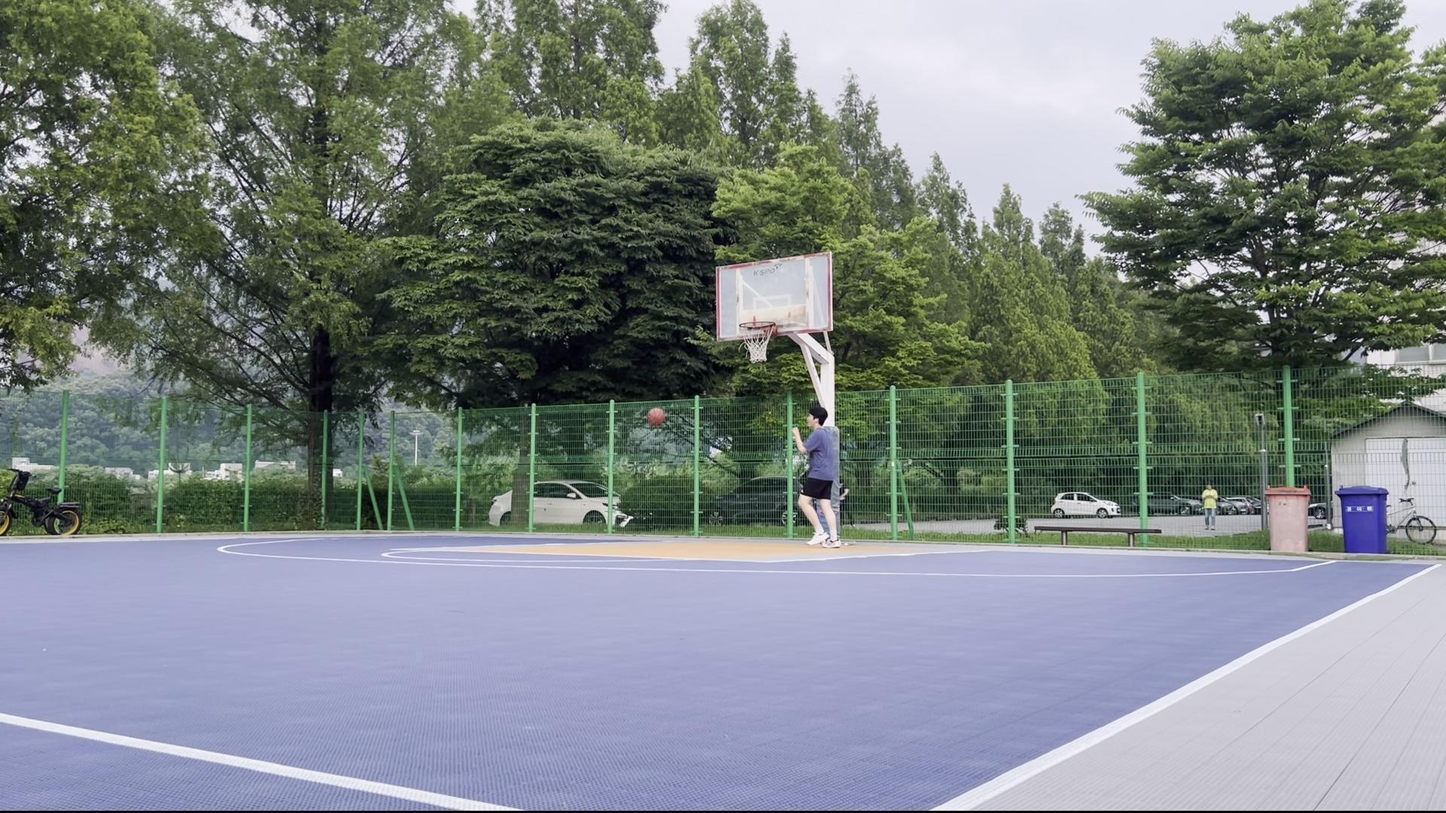ball: (646, 407, 667, 428)
human: (790, 406, 843, 549)
rim: (738, 321, 777, 365)
